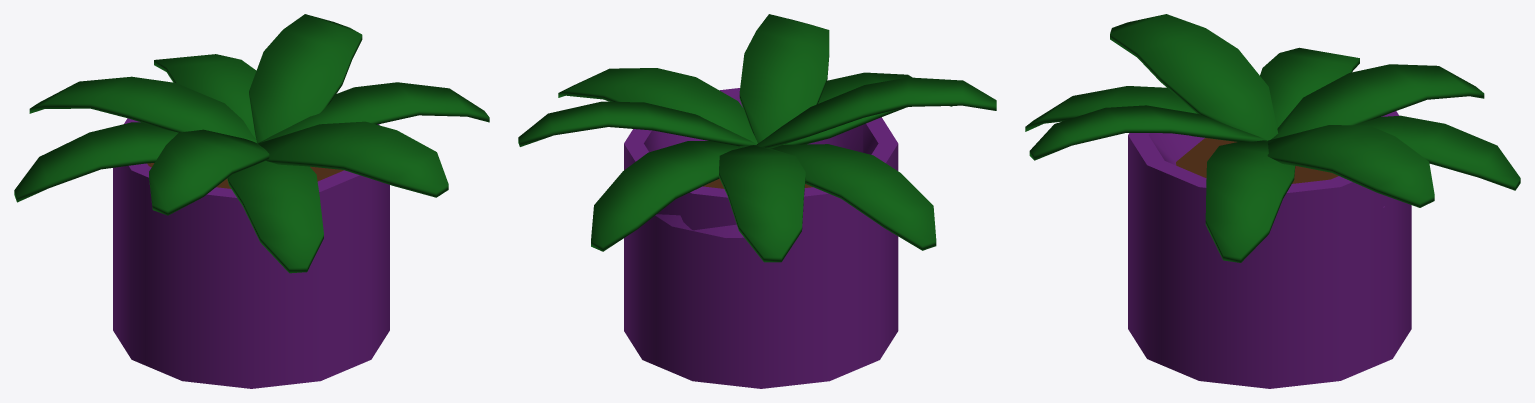
File: plant5.fbx
3 views of the same model, side by side, from view 1: azimuth 30°, elevation 25°; view 2: azimuth 150°, elevation 25°; view 3: azimuth 270°, elevation 25° (orthographic). The views are drawn at different scales.
Parts seen in each view (by area): view 1: plants_2; view 2: plants_2; view 3: plants_2.
Boxes of the visible parts, <box> form: plants_2: <box>14,14,489,388</box>; plants_2: <box>518,14,996,388</box>; plants_2: <box>1025,14,1520,388</box>.
Size of the model in its own units: 76.45 by 40.77 by 75.4.
